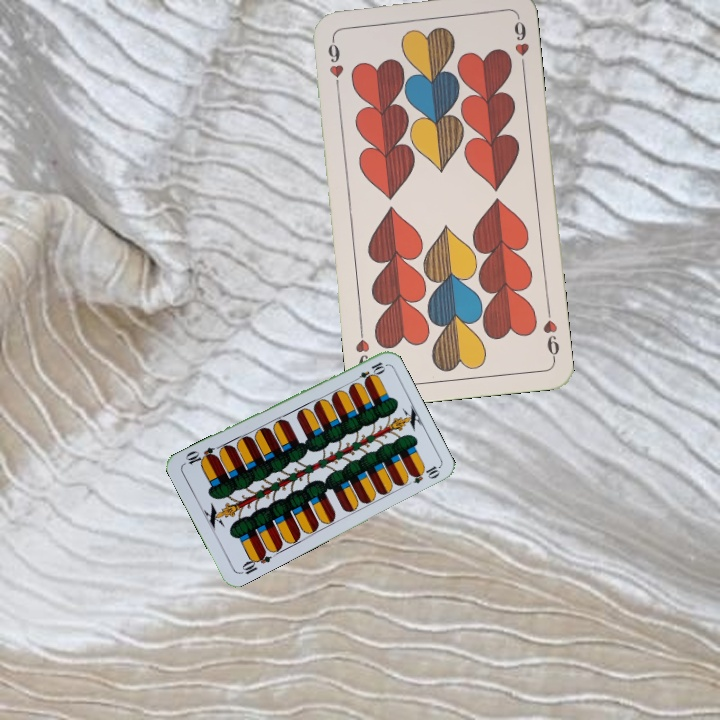E10: (236, 547, 274, 577), (349, 358, 387, 386)
H9: (323, 34, 346, 94), (539, 304, 562, 363)
